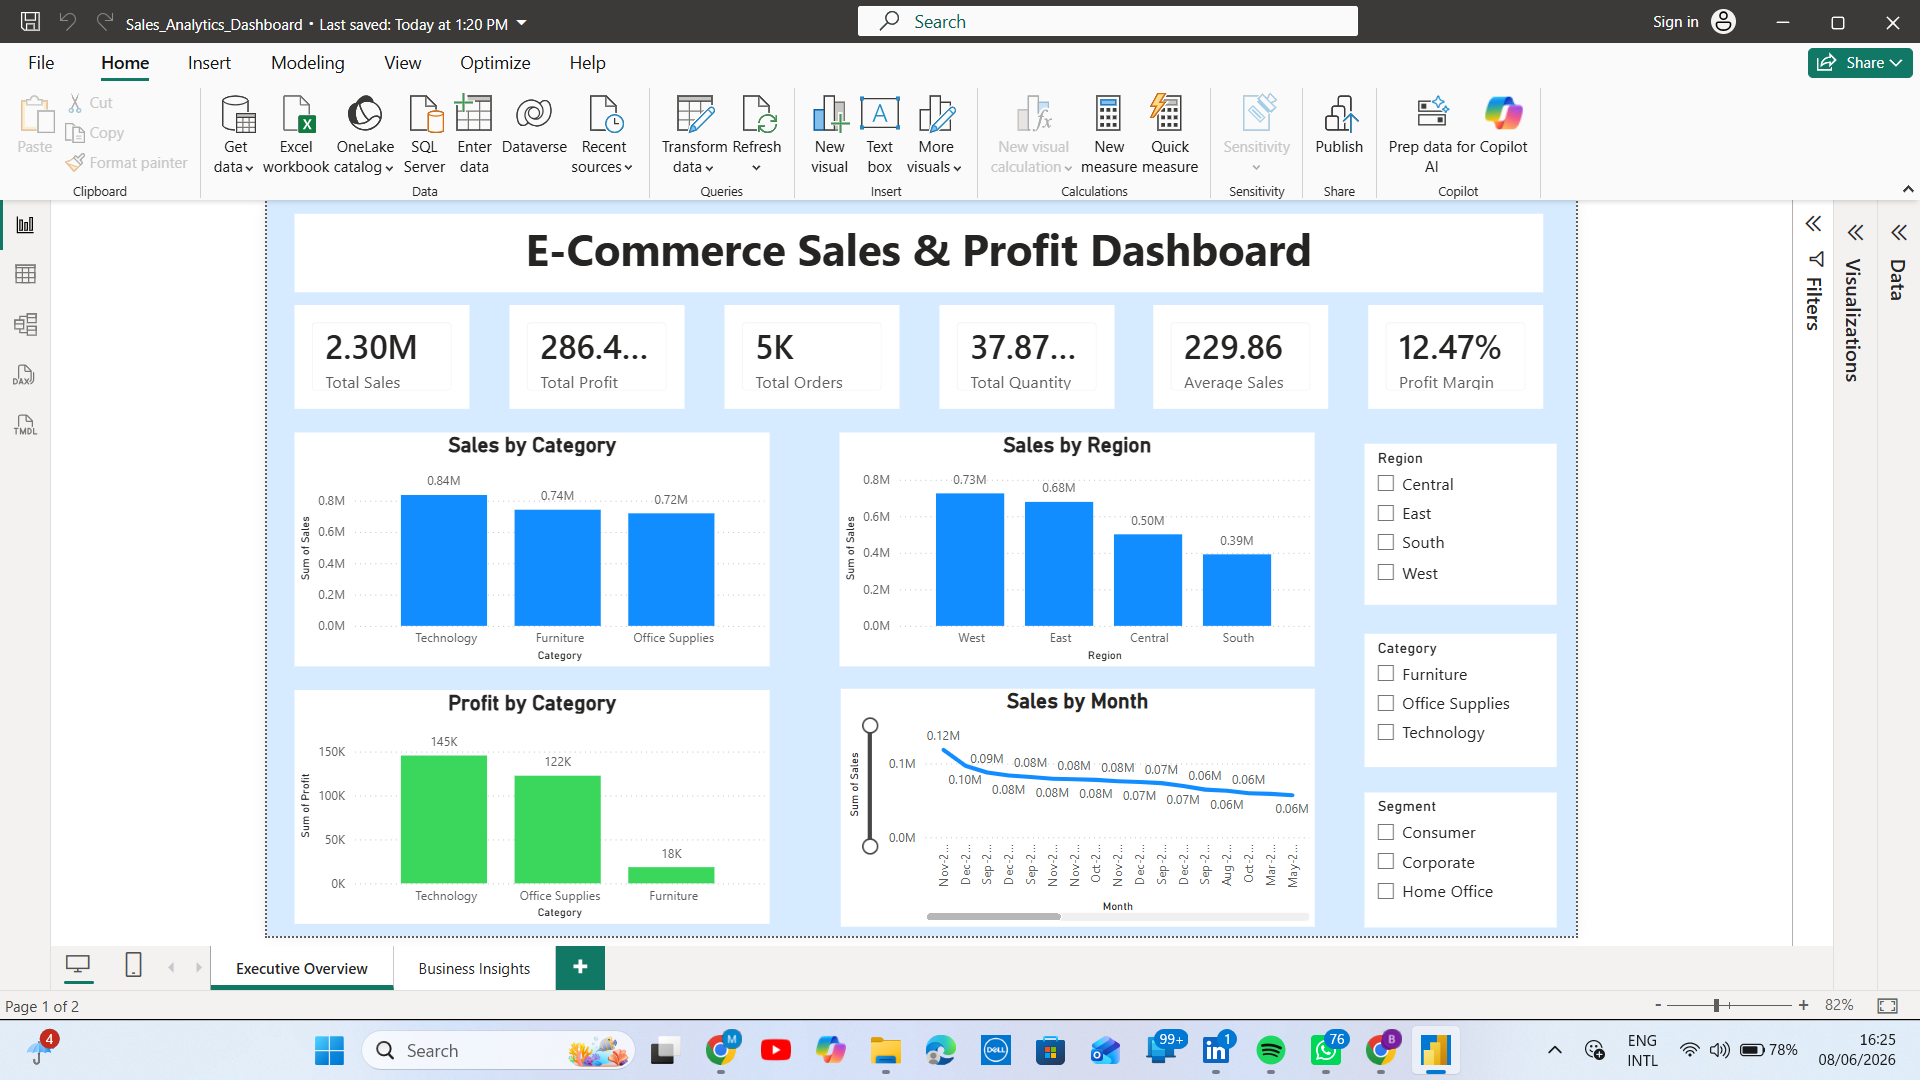

What the dashboard file says about the page in this screenshot:
{"tool":"powerbi","page":{"name":"Executive Overview","canvas":[1280,720],"ordinal":0},"visuals":[{"type":"cardVisual","fields":{"Data":["Sample - Superstore.Total Sales"]},"box":[27.4,102.7,171.5,101.5],"z":0},{"type":"textbox","box":[27.4,13.7,1221.3,76.8],"z":1000},{"type":"cardVisual","fields":{"Data":["Sample - Superstore.Total Profit"]},"box":[237.7,102.7,171.2,101.5],"z":2000},{"type":"cardVisual","fields":{"Data":["Sample - Superstore.Total Orders"]},"box":[447.6,102.7,171.2,101.5],"z":3000},{"type":"cardVisual","fields":{"Data":["Sample - Superstore.Total Quantity"]},"box":[657.5,102.7,171.2,101.5],"z":4000},{"type":"cardVisual","fields":{"Data":["Sample - Superstore.Average Sales"]},"box":[867.4,102.7,171.2,101.5],"z":5000},{"type":"clusteredColumnChart","title":"Sales by Category","fields":{"Category":["Sample - Superstore.Category"],"Y":["Sum(Sample - Superstore.Sales)"]},"box":[27.4,227.8,465.2,229.2],"z":6000},{"type":"clusteredColumnChart","title":"Sales by Region","fields":{"Category":["Sample - Superstore.Region"],"Y":["Sum(Sample - Superstore.Sales)"]},"box":[559.9,227.8,465.2,229.2],"z":7000},{"type":"clusteredColumnChart","title":"Profit by Category","fields":{"Y":["Sum(Sample - Superstore.Profit)"],"Category":["Sample - Superstore.Category"]},"box":[27.4,478.9,465.2,229.2],"z":8000},{"type":"lineChart","title":"Sales by Month","fields":{"Category":["Sample - Superstore.Month"],"Y":["Sum(Sample - Superstore.Sales)"]},"box":[561.3,478.1,463.5,232.3],"z":9000},{"type":"slicer","fields":{"Values":["Sample - Superstore.Category"]},"box":[1073.1,424,188,130.4],"z":10000},{"type":"slicer","fields":{"Values":["Sample - Superstore.Region"]},"box":[1073.1,238.8,188,157.8],"z":11000},{"type":"slicer","fields":{"Values":["Sample - Superstore.Segment"]},"box":[1073.1,579.1,188,131.7],"z":12000},{"type":"cardVisual","fields":{"Data":["Sample - Superstore.Profit Margin"]},"box":[1077.3,102.7,171.2,101.5],"z":13000}]}

Visuals, with their boxes on the page's 1280x720 design canvas (x1, y1, x2, y2). These are canvas units, not pixel positions in the 1920x1080 screenshot, which may show the page scaled, cropped or inside an application window:
cardVisual - Sample - Superstore.Total Sales: [27,103,199,204]
textbox: [27,14,1249,90]
cardVisual - Sample - Superstore.Total Profit: [238,103,409,204]
cardVisual - Sample - Superstore.Total Orders: [448,103,619,204]
cardVisual - Sample - Superstore.Total Quantity: [658,103,829,204]
cardVisual - Sample - Superstore.Average Sales: [867,103,1039,204]
"Sales by Category" clusteredColumnChart: [27,228,493,457]
"Sales by Region" clusteredColumnChart: [560,228,1025,457]
"Profit by Category" clusteredColumnChart: [27,479,493,708]
"Sales by Month" lineChart: [561,478,1025,710]
slicer - Sample - Superstore.Category: [1073,424,1261,554]
slicer - Sample - Superstore.Region: [1073,239,1261,397]
slicer - Sample - Superstore.Segment: [1073,579,1261,711]
cardVisual - Sample - Superstore.Profit Margin: [1077,103,1248,204]
